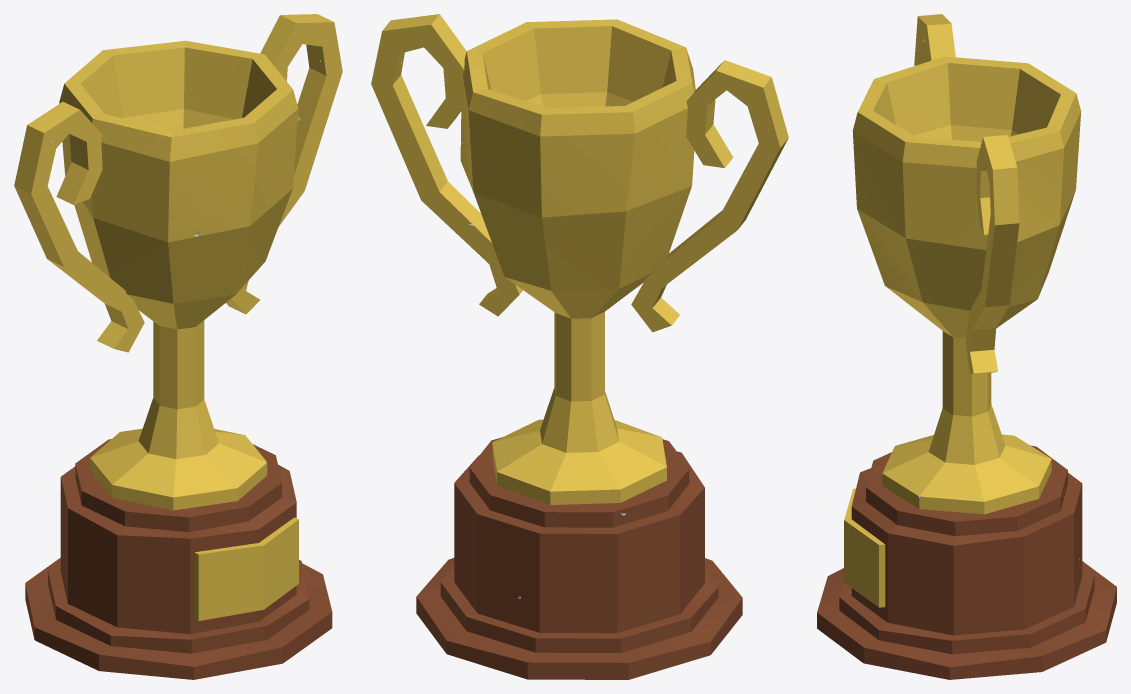
Rendered from cuptown_root.fbx.
3 views of the same model, side by side, from view 1: azimuth 30°, elevation 25°; view 2: azimuth 150°, elevation 25°; view 3: azimuth 270°, elevation 25° (orthographic). The views are drawn at different scales.
Visible parts, largest first — view 1: cuptown_sh_48, cuptown_sh_199, cuptown_sh_56, cuptown_sh_182, cuptown_sh_51, cuptown_sh_54, cuptown_sh_241, cuptown_sh_194, cuptown_sh_119, cuptown_sh_65, cuptown_sh_210, cuptown_sh_229 (+69 smaller); view 2: cuptown_sh_66, cuptown_sh_55, cuptown_sh_61, cuptown_sh_65, cuptown_sh_241, cuptown_sh_41, cuptown_sh_134, cuptown_sh_108, cuptown_sh_251, cuptown_sh_234, cuptown_sh_37, cuptown_sh_136 (+65 smaller); view 3: cuptown_sh_216, cuptown_sh_161, cuptown_sh_16, cuptown_sh_147, cuptown_sh_178, cuptown_sh_10, cuptown_sh_47, cuptown_sh_8, cuptown_sh_22, cuptown_sh_38, cuptown_sh_150, cuptown_sh_251 (+64 smaller).
Part boxes in pixels (<box>): cuptown_sh_48: <box>76,595,170,676</box>; cuptown_sh_199: <box>155,51,251,128</box>; cuptown_sh_56: <box>166,614,281,678</box>; cuptown_sh_182: <box>148,158,240,235</box>; cuptown_sh_51: <box>116,519,177,599</box>; cuptown_sh_54: <box>68,540,135,612</box>; cuptown_sh_241: <box>260,14,337,77</box>; cuptown_sh_194: <box>156,250,234,306</box>; cuptown_sh_119: <box>94,204,168,277</box>; cuptown_sh_65: <box>35,566,96,659</box>; cuptown_sh_210: <box>194,220,257,289</box>; cuptown_sh_229: <box>45,102,102,181</box>; cuptown_sh_66: <box>536,584,641,679</box>; cuptown_sh_55: <box>519,550,601,631</box>; cuptown_sh_61: <box>522,508,625,562</box>; cuptown_sh_65: <box>636,590,731,652</box>; cuptown_sh_241: <box>378,14,466,84</box>; cuptown_sh_41: <box>477,597,554,679</box>; cuptown_sh_134: <box>494,96,577,159</box>; cuptown_sh_108: <box>525,49,613,107</box>; cuptown_sh_251: <box>371,62,431,175</box>; cuptown_sh_234: <box>736,75,786,172</box>; cuptown_sh_37: <box>636,485,695,555</box>; cuptown_sh_136: <box>601,148,665,206</box>; cuptown_sh_216: <box>910,168,987,247</box>; cuptown_sh_161: <box>900,219,959,306</box>; cuptown_sh_16: <box>895,587,979,662</box>; cuptown_sh_147: <box>982,65,1046,133</box>; cuptown_sh_178: <box>933,57,987,131</box>; cuptown_sh_10: <box>998,565,1050,652</box>; cuptown_sh_47: <box>933,522,1017,583</box>; cuptown_sh_8: <box>930,626,1008,679</box>; cuptown_sh_22: <box>997,501,1055,568</box>; cuptown_sh_38: <box>1039,602,1108,650</box>; cuptown_sh_150: <box>920,457,1000,511</box>; cuptown_sh_251: <box>986,194,1019,295</box>.
Bounding box in the file's own units: 385 × 570 × 287.
